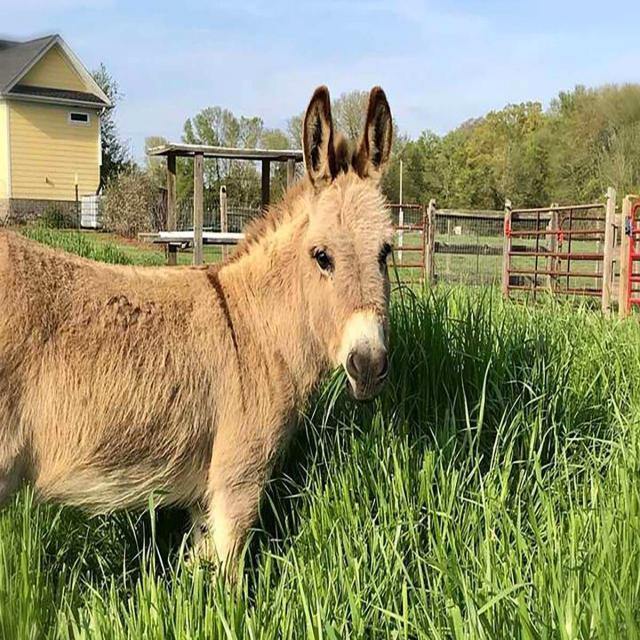donkey: (1, 86, 394, 575)
